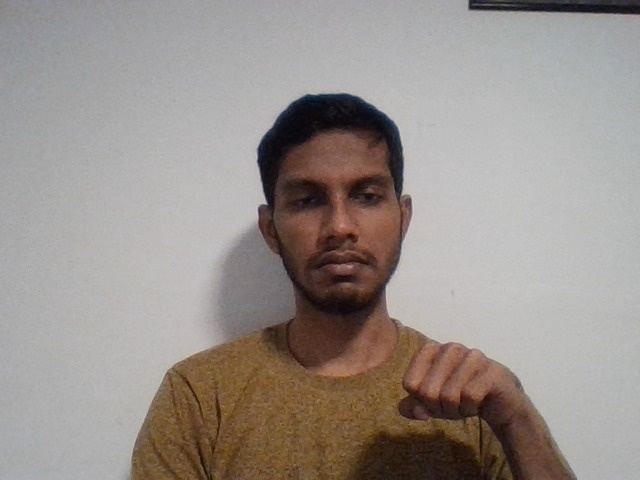yes: (380, 329, 537, 454)
